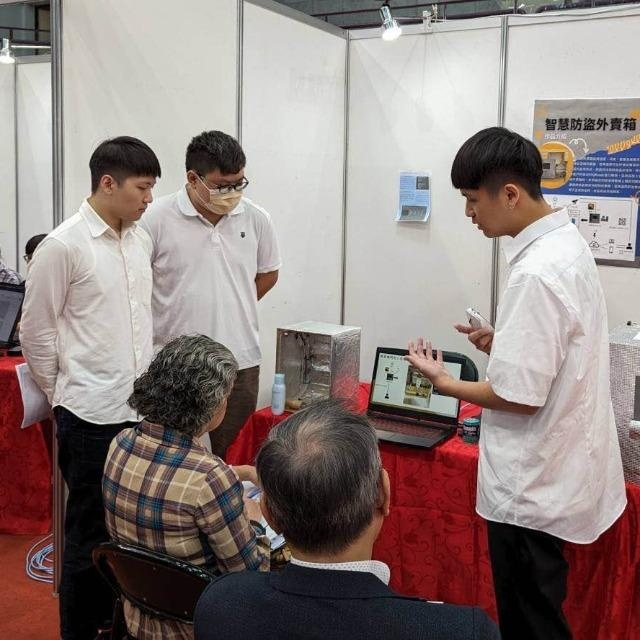Sin_Casco_Mascarrilla: (253, 401, 389, 556), (128, 334, 242, 438), (447, 130, 543, 242), (89, 134, 163, 222)
Sin_Chaleco: (476, 243, 625, 533)
